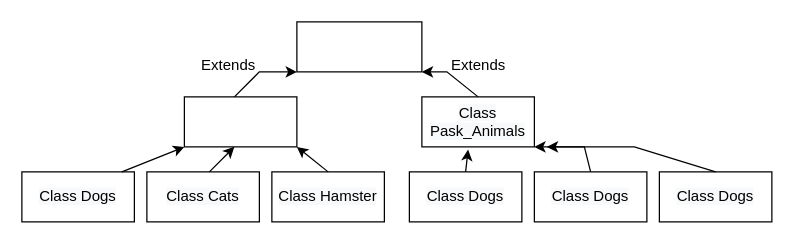
This 794x244 diagram has some shape labels left out. The shapes that lost their labels are listed below. From the top down, each one's box as (x1, y1, x2, y2) in pixels, then its label:
(296, 21, 422, 72): Class Nursery
(183, 96, 297, 147): Class Pets
